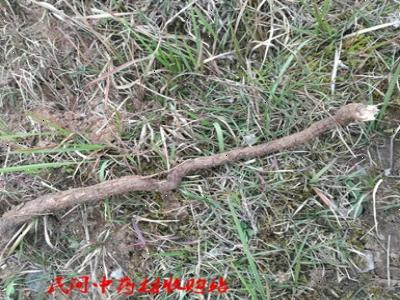Root: (0, 103, 377, 241)
